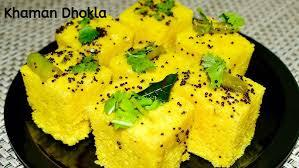yellow dhokla: (85, 69, 204, 168)
